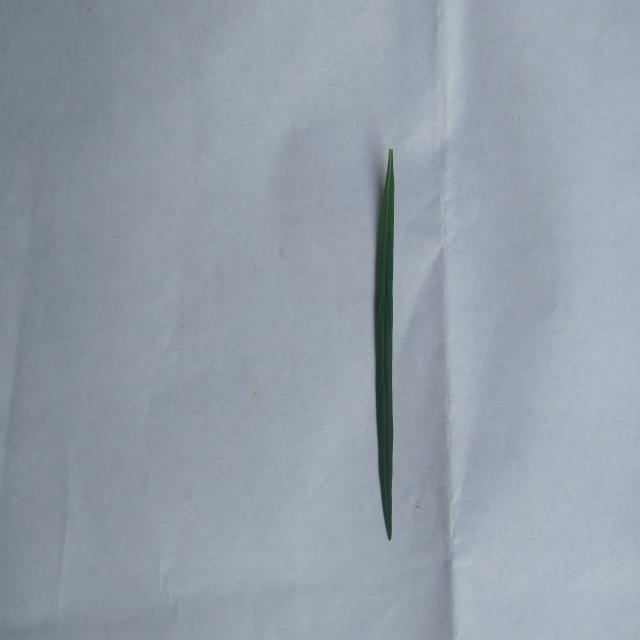thambe: (375, 149, 394, 540)
